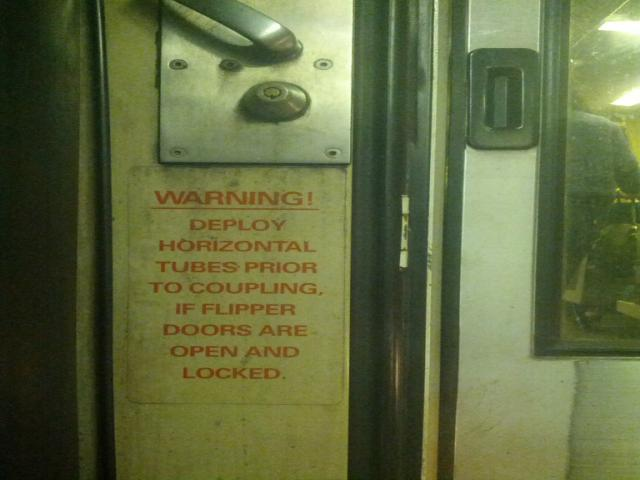Door-handle: (159, 0, 354, 164)
